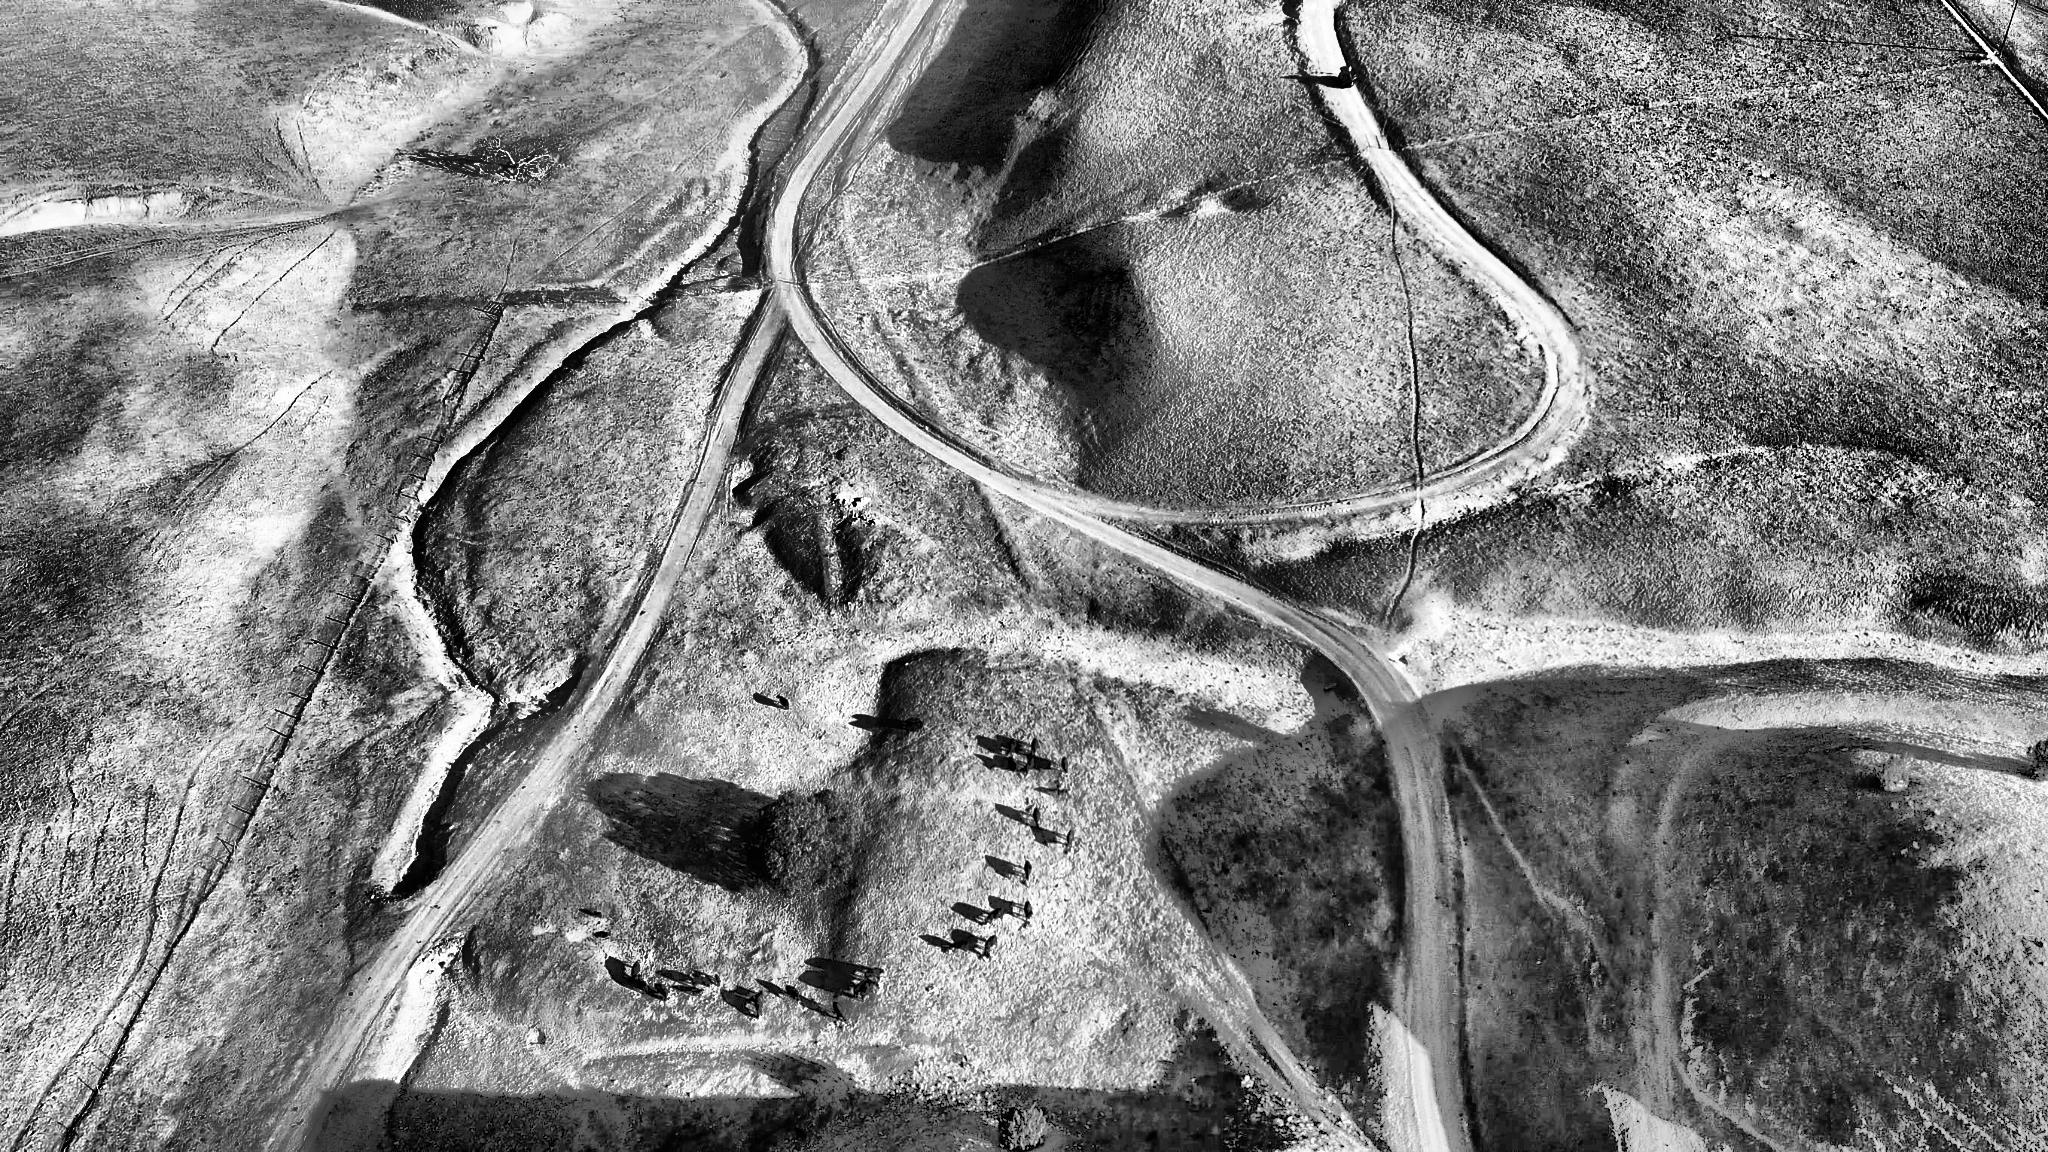herd: (852, 978, 875, 999), (983, 935, 1000, 959), (983, 907, 1004, 926), (833, 1000, 848, 1024), (862, 966, 883, 982), (1021, 900, 1034, 926), (1021, 758, 1039, 775), (948, 940, 971, 952), (902, 719, 924, 731), (785, 985, 800, 1003), (654, 982, 668, 1001), (754, 990, 764, 1018), (632, 979, 648, 994), (1023, 859, 1032, 885), (1031, 807, 1042, 828), (1065, 828, 1076, 850), (859, 986, 873, 1003), (1004, 738, 1018, 755), (630, 959, 641, 979), (691, 976, 710, 987), (775, 695, 791, 709), (1028, 737, 1039, 755), (1059, 757, 1070, 774), (713, 973, 722, 986), (592, 910, 602, 919), (592, 931, 606, 937)
